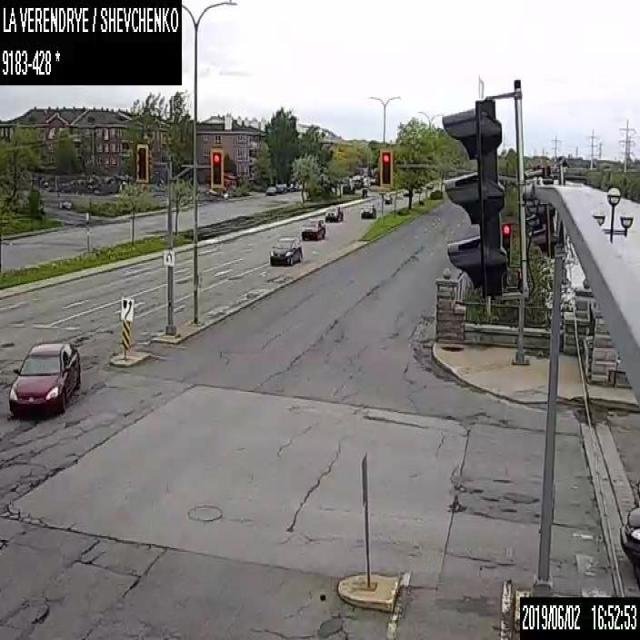vehicle: (8, 336, 81, 417), (619, 503, 639, 571), (270, 234, 302, 264), (301, 217, 325, 239), (324, 204, 343, 221), (360, 203, 375, 218), (265, 184, 276, 194), (276, 182, 286, 192), (382, 192, 392, 202), (402, 188, 412, 195), (286, 182, 293, 191)
